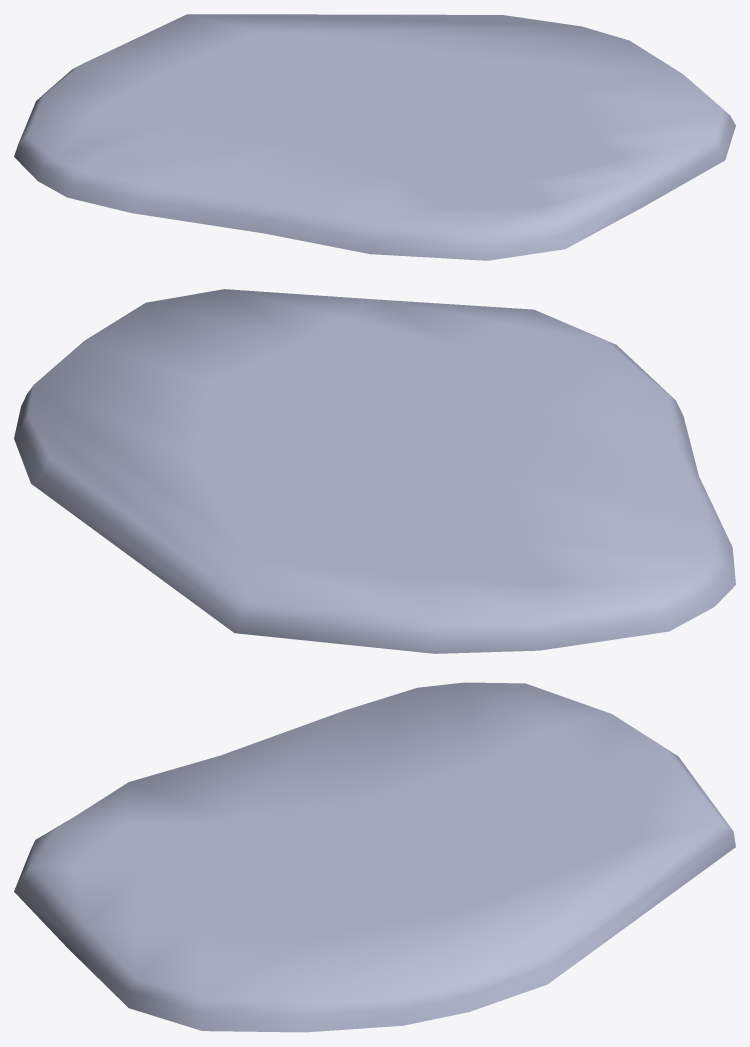
The model's file is Road_Rock_02.fbx.
The picture shows the model from 3 angles, top to bottom: view 1: azimuth 30°, elevation 25°; view 2: azimuth 150°, elevation 25°; view 3: azimuth 270°, elevation 25°; orthographic projection. The views are drawn at different scales.
Visible parts, largest first — view 1: Road_Rock_02; view 2: Road_Rock_02; view 3: Road_Rock_02.
Part boxes in pixels (box(x1,y1,x2,y2)): Road_Rock_02: box(14, 14, 735, 260); Road_Rock_02: box(14, 289, 735, 653); Road_Rock_02: box(14, 682, 735, 1032).
Size of the model in its own units: 242 by 10.62 by 224.
